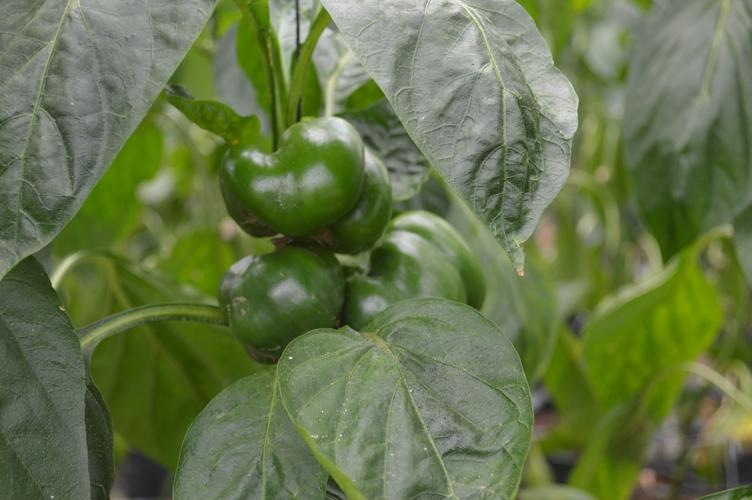BellPepper: (214, 116, 364, 244), (338, 210, 488, 326), (216, 247, 344, 359), (323, 154, 391, 254)
